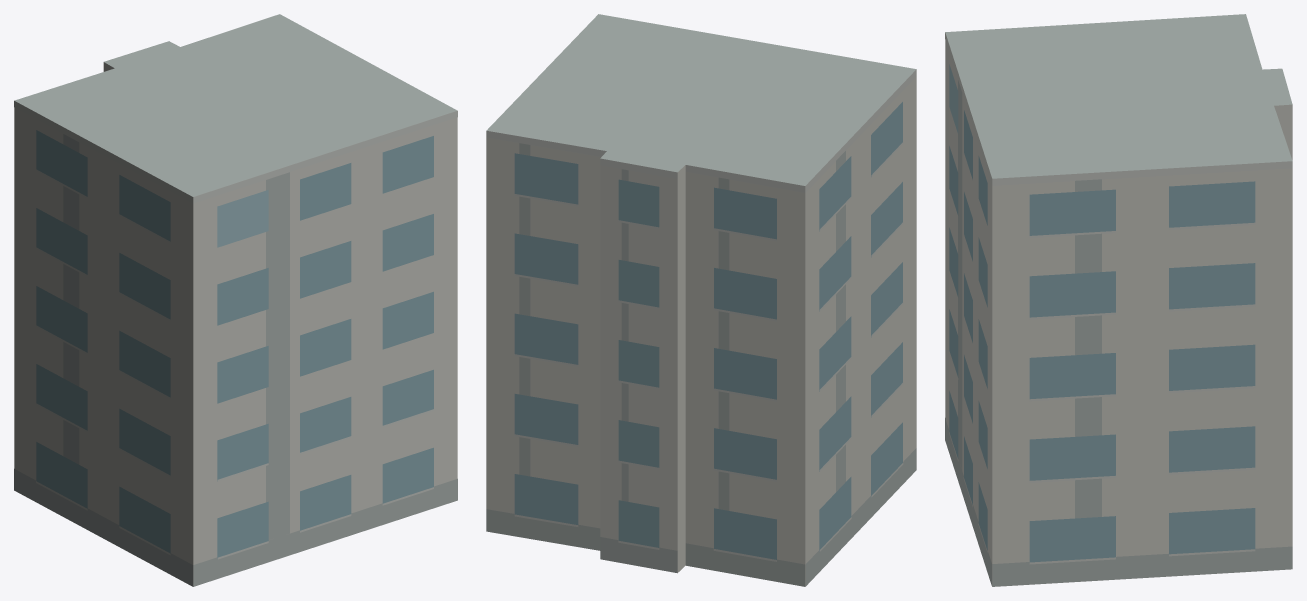
The model's file is survey-upis-32708419.glb.
3 views of the same model, side by side, from view 1: azimuth 30°, elevation 25°; view 2: azimuth 150°, elevation 25°; view 3: azimuth 270°, elevation 25° (orthographic). The views are drawn at different scales.
Visible parts, largest first — view 1: survey-upis-32708419.tmp; view 2: survey-upis-32708419.tmp; view 3: survey-upis-32708419.tmp.
Part boxes in pixels (x1,y1,x2,y2): survey-upis-32708419.tmp: (14, 14, 457, 586); survey-upis-32708419.tmp: (486, 14, 916, 586); survey-upis-32708419.tmp: (945, 14, 1292, 586).
Bounding box in the file's own units: 12.39 × 14.3 × 11.05.
